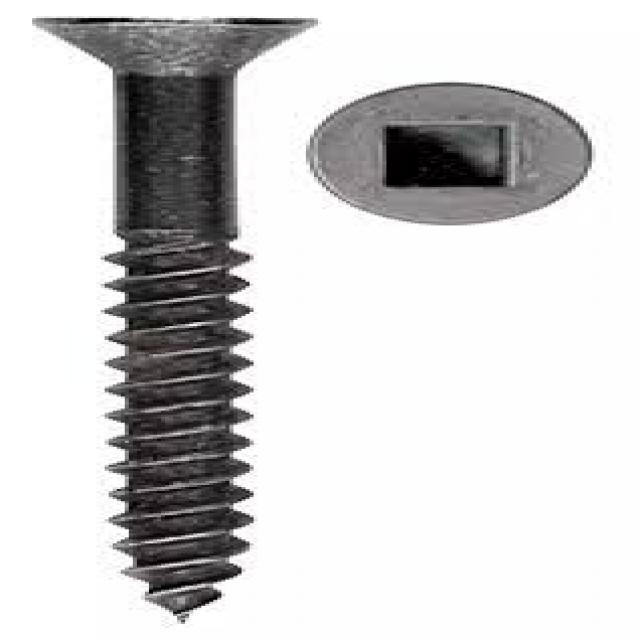Screw: (40, 18, 314, 615), (300, 76, 599, 237)
